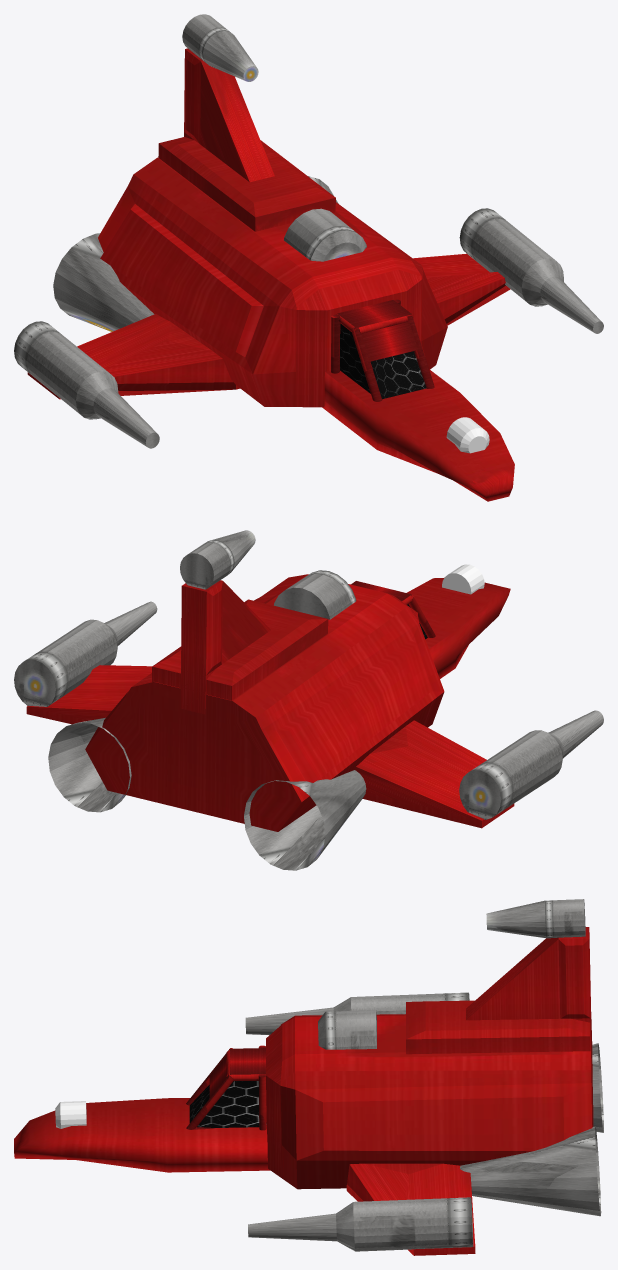
Rendered from nave2.glb.
3 views of the same model, one above another, from view 1: azimuth 30°, elevation 25°; view 2: azimuth 150°, elevation 25°; view 3: azimuth 270°, elevation 25° (orthographic). The views are drawn at different scales.
Visible parts, largest first — view 1: Cube.003; view 2: Cube.003; view 3: Cube.003.
Boxes of the visible parts, box(x1,y1,x2,y2) form: Cube.003: box(14, 14, 603, 501); Cube.003: box(14, 530, 603, 870); Cube.003: box(14, 899, 603, 1255).
Bounding box in the file's own units: 5.45 × 3.05 × 5.97.
21 materials, 20 textured.
